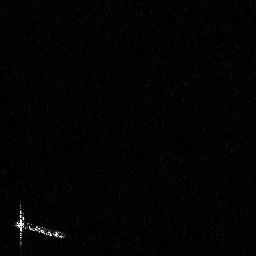ship: (11, 199, 66, 248)
